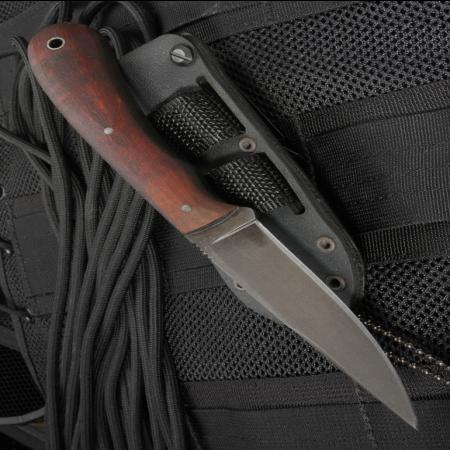long weapon: (178, 202, 428, 436)
